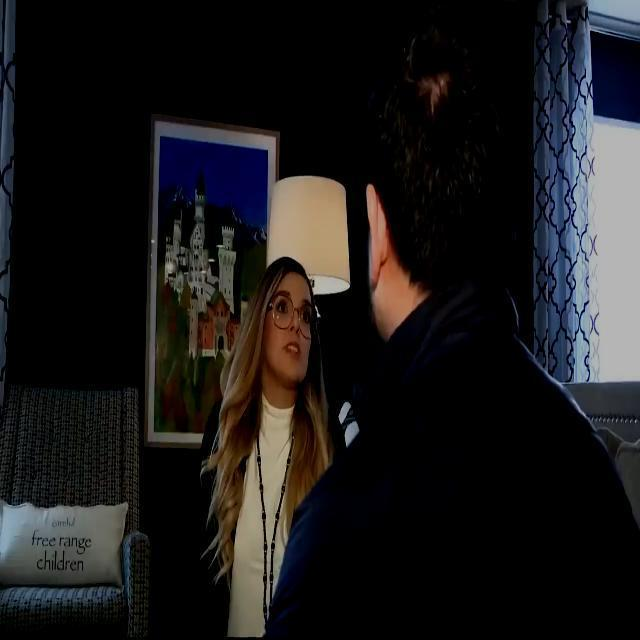non-fight: (338, 0, 640, 640), (203, 226, 335, 640)
